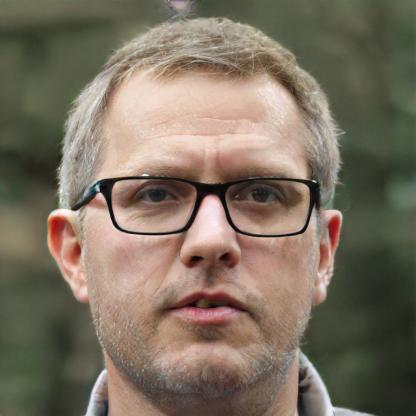glasses: (89, 168, 321, 241)
